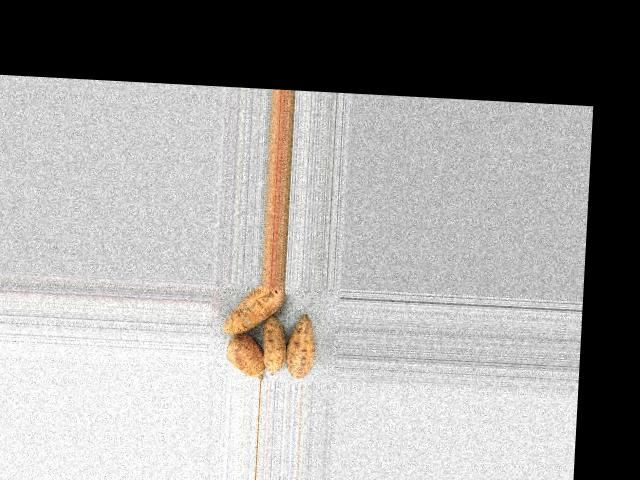sweet_potato: (217, 281, 291, 337)
